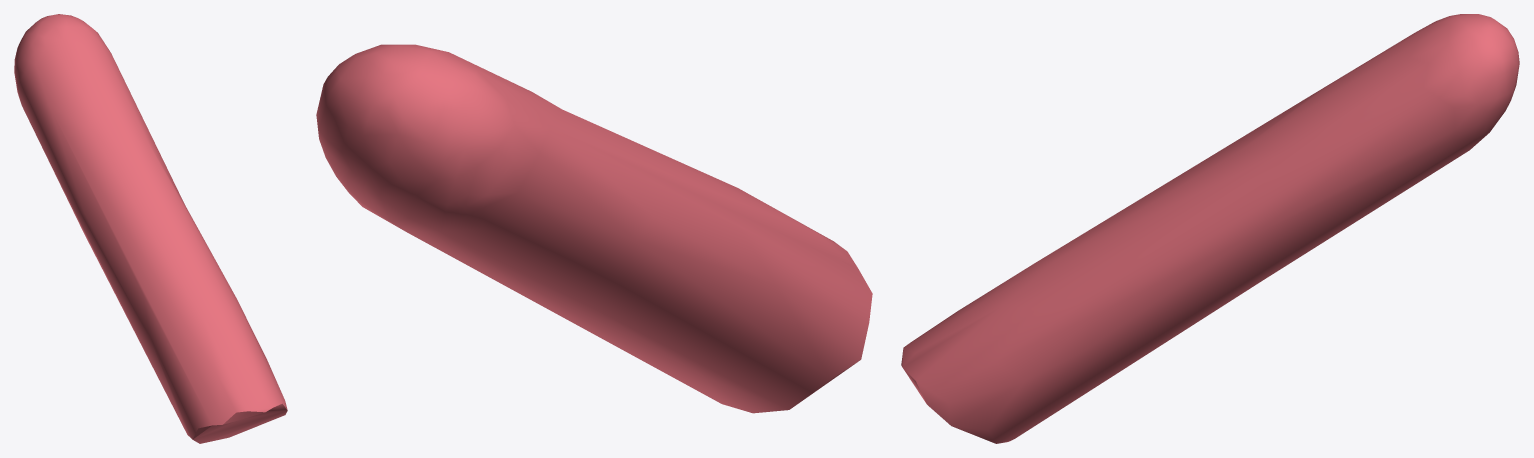
Rendered from fma14749.glb.
The picture shows the model from 3 angles, left to right: view 1: azimuth 30°, elevation 25°; view 2: azimuth 150°, elevation 25°; view 3: azimuth 270°, elevation 25°; orthographic projection. The views are drawn at different scales.
Parts seen in each view (by area): view 1: FMA14749; view 2: FMA14749; view 3: FMA14749.
Boxes of the visible parts, x1,y1,x2,y2 form: FMA14749: [14, 14, 287, 443]; FMA14749: [316, 44, 872, 413]; FMA14749: [901, 14, 1519, 443].
Bounding box in the file's own units: 0.00902 × 0.0275 × 0.0369.
